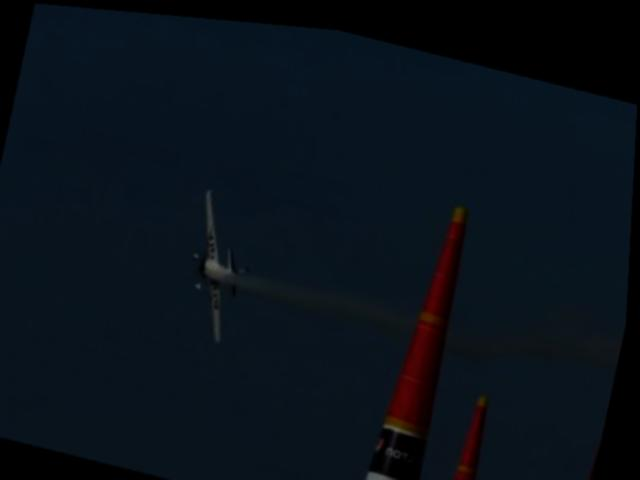uav: (167, 177, 274, 347)
